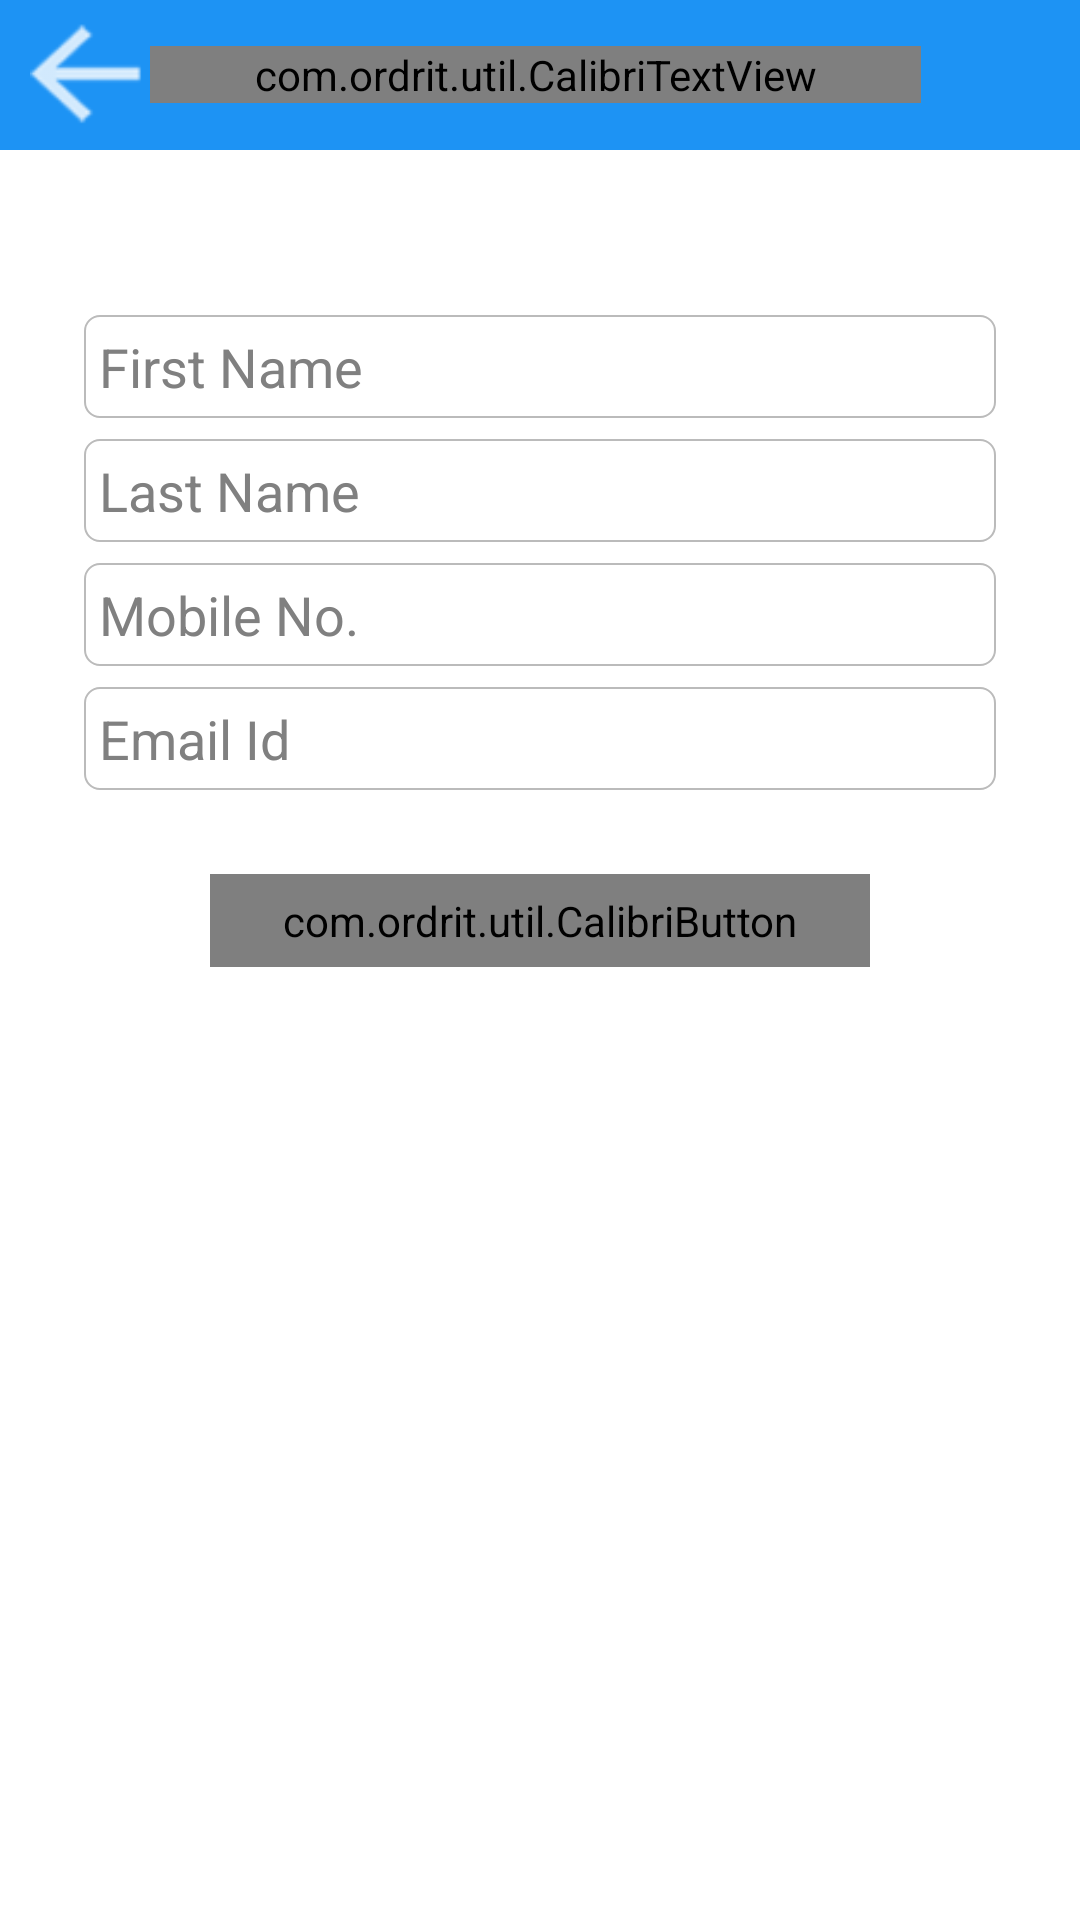

Named icons in this screenshot (1080*1920) and their bounding boxes, (x1, y1, x2, y2):
previous item: (30, 24, 141, 123)
